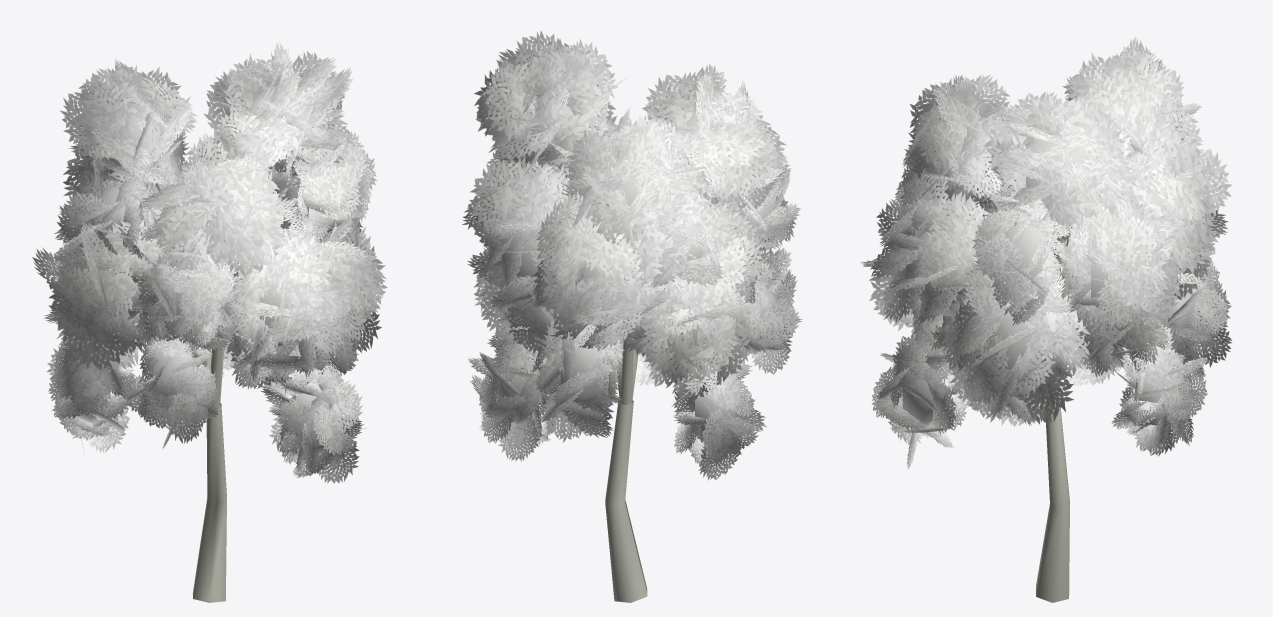
File: bjork-full.glb
3 views of the same model, side by side, from view 1: azimuth 30°, elevation 25°; view 2: azimuth 150°, elevation 25°; view 3: azimuth 270°, elevation 25° (orthographic).
Parts seen in each view (by area): view 1: crown, trunk; view 2: crown, trunk; view 3: crown, trunk.
Part boxes in pixels (<box>): crown: <box>32,42,387,483</box>; trunk: <box>150,163,229,602</box>; crown: <box>462,30,802,480</box>; trunk: <box>578,168,647,602</box>; crown: <box>860,36,1232,468</box>; trunk: <box>981,182,1074,602</box>.
Size of the model in its own units: 10.3 by 15.43 by 10.55.
Materials: 2 (1 with a texture image).
